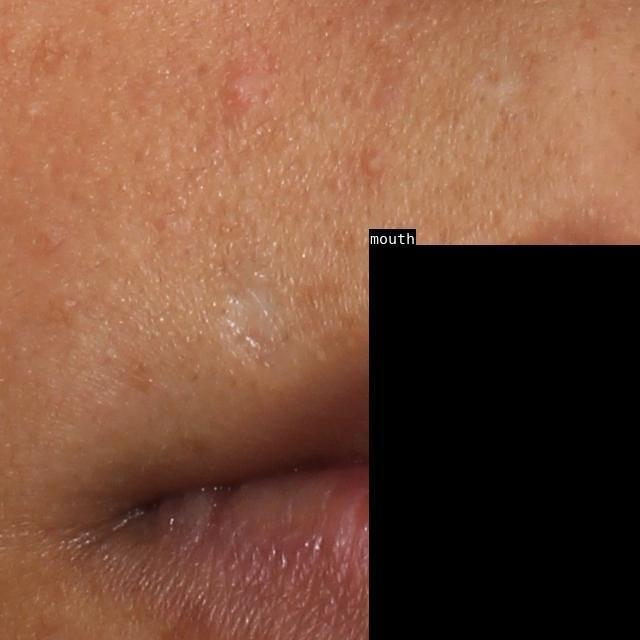hypertrophic_scar: (469, 59, 524, 114)
papule: (215, 59, 262, 113), (358, 151, 382, 177)
